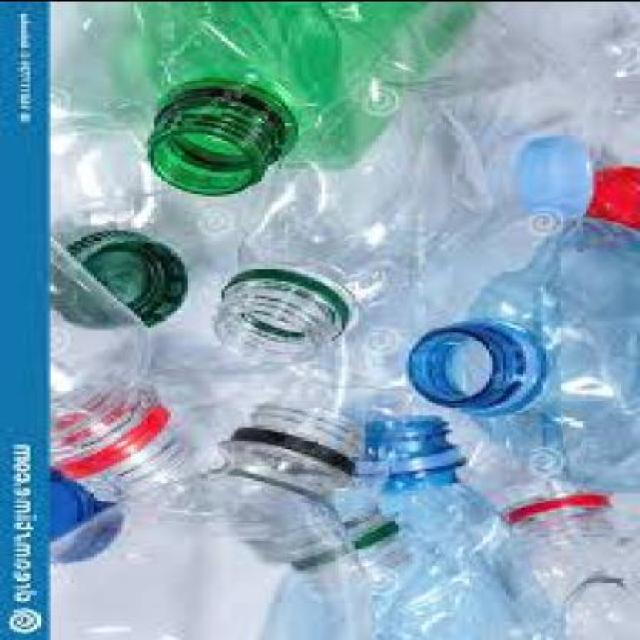PLASTIC: (46, 0, 640, 638), (221, 3, 593, 360), (55, 420, 360, 638), (145, 2, 489, 195), (408, 212, 638, 497), (54, 2, 208, 328), (362, 416, 570, 638), (271, 482, 546, 638), (57, 229, 198, 503), (148, 287, 348, 462), (506, 476, 640, 638), (53, 228, 192, 328), (519, 136, 599, 222), (596, 3, 638, 166), (56, 468, 121, 562), (592, 166, 638, 234)
